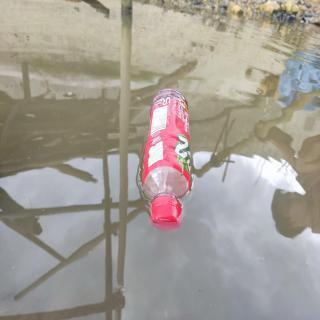bottle: (142, 88, 195, 233)
